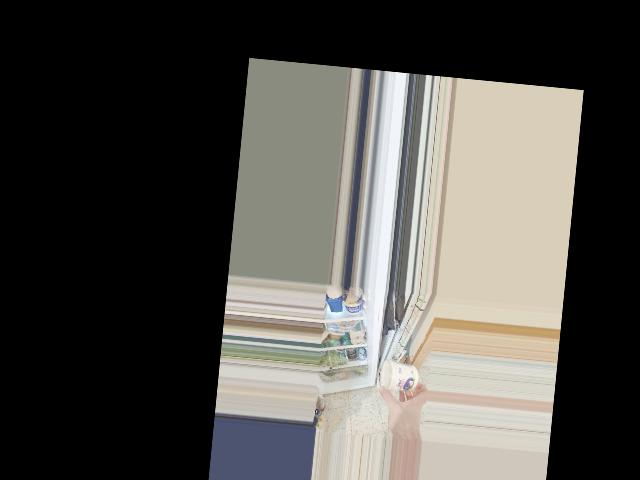cotage: (381, 358, 422, 392)
